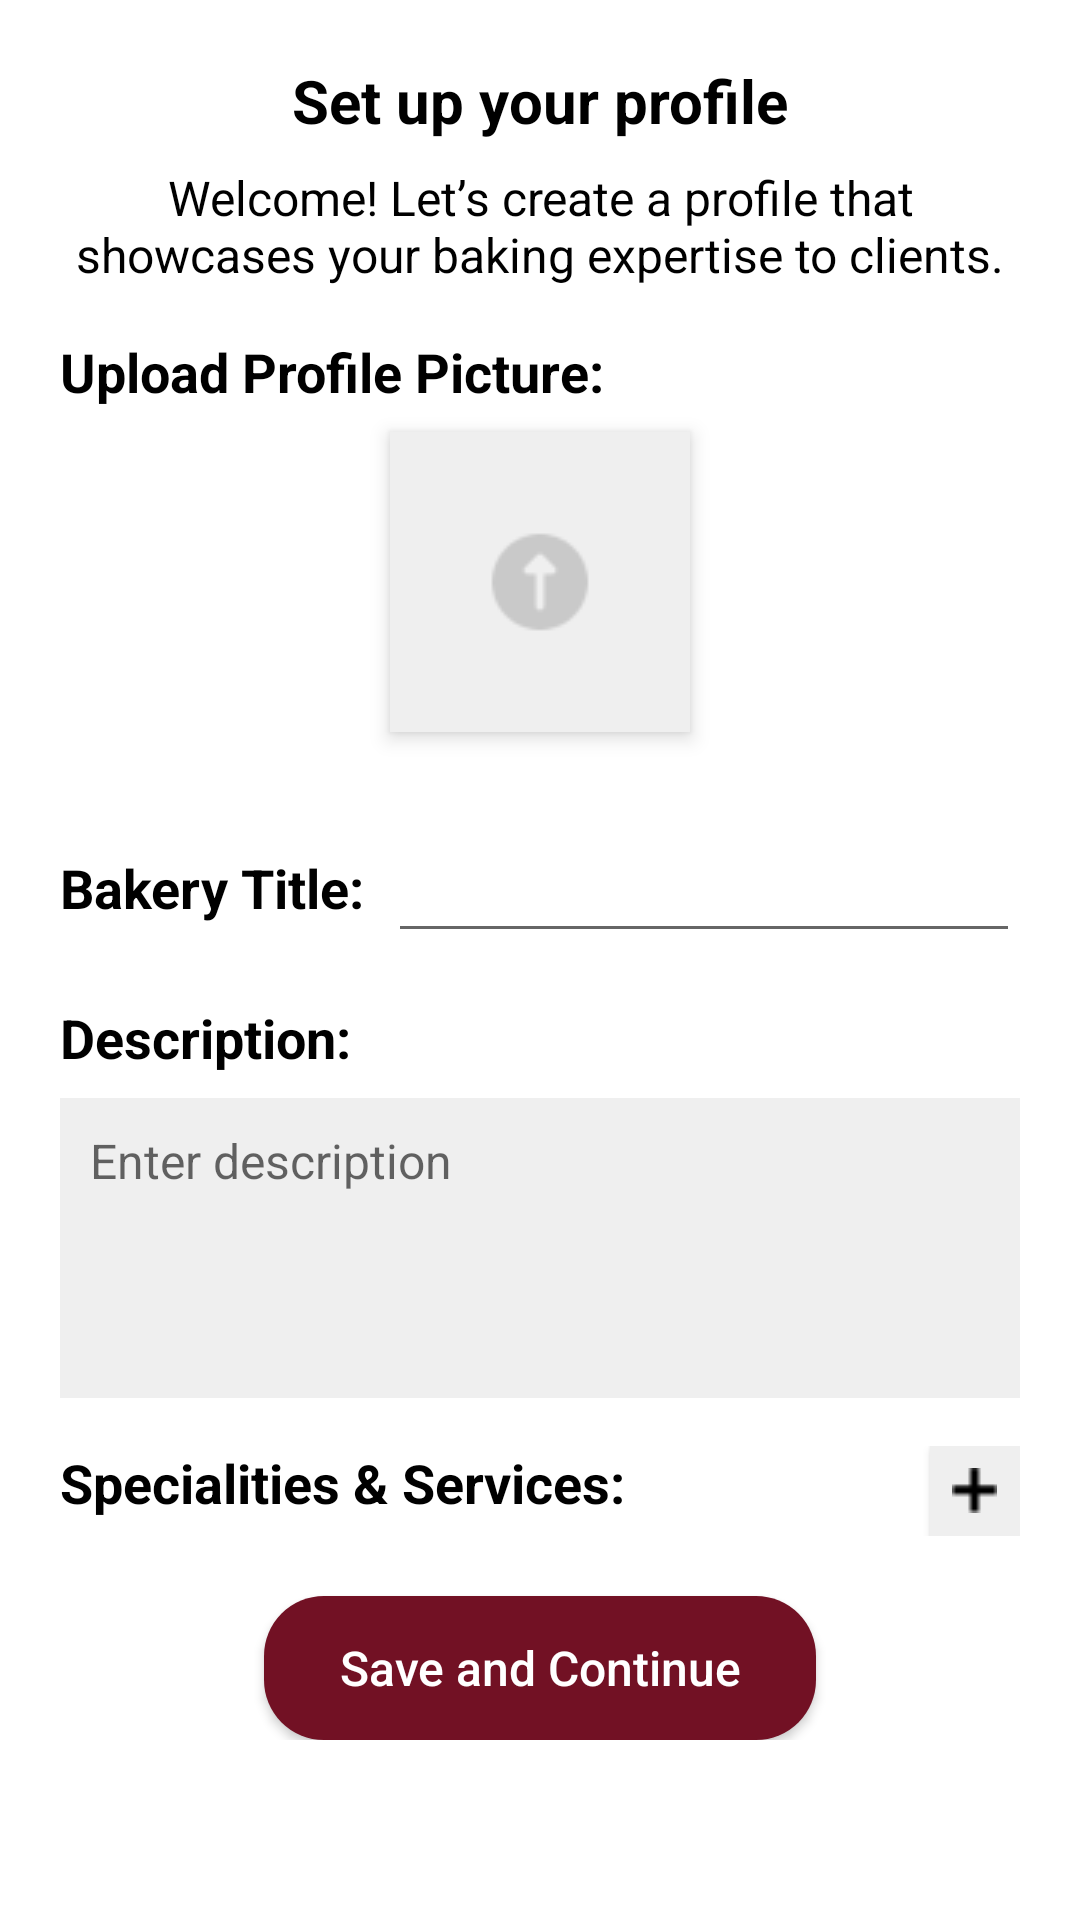

Named icons in this screenshot (1080*1920) and their centers, (x,y):
Add Specialities: (974,1490)
